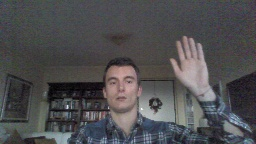Mano_aperta: (167, 32, 210, 94)
